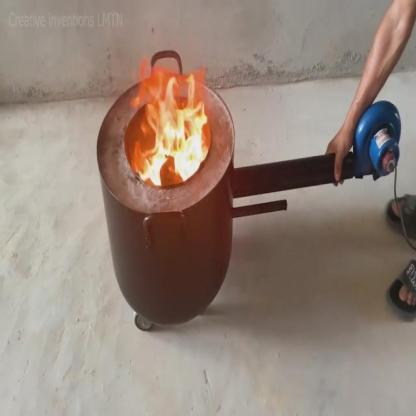Fire: (134, 69, 208, 182)
